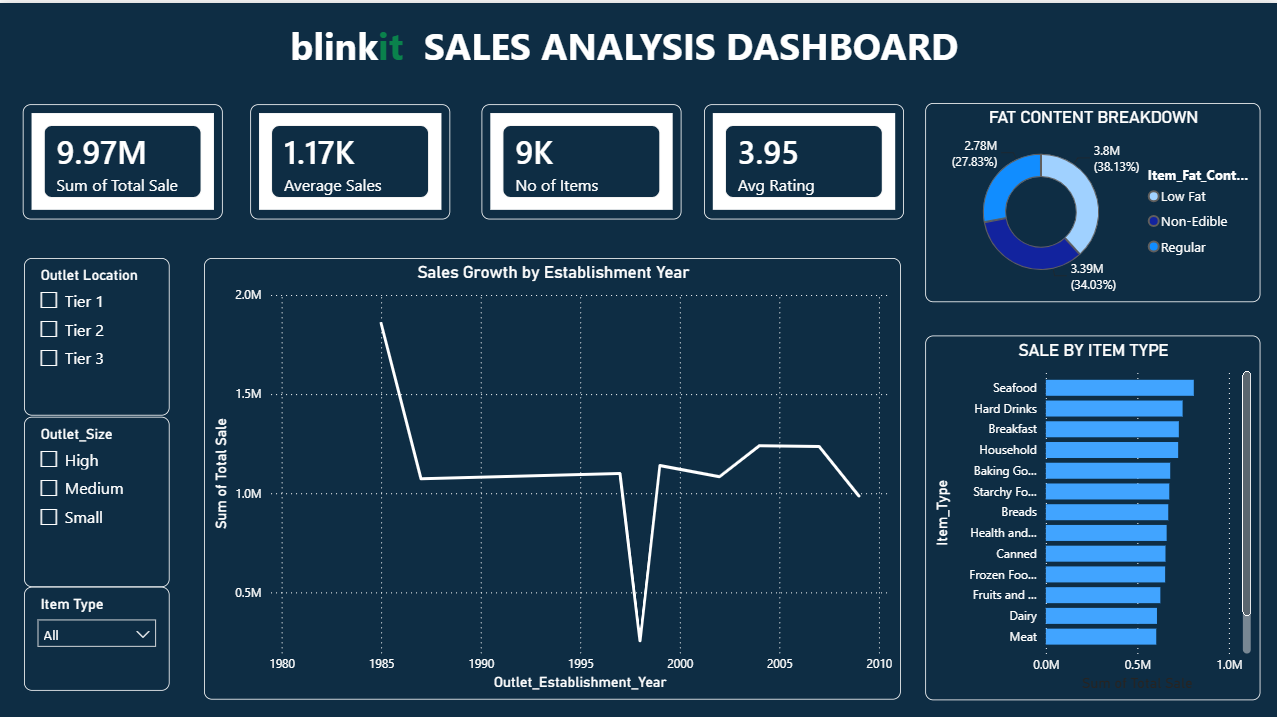

The dashboard page shown, as its layout file describes it:
{"tool":"powerbi","page":{"name":"Page 1","canvas":[1280,720],"ordinal":0},"visuals":[{"type":"textbox","box":[420,12.9,567.1,71.4],"z":0},{"type":"textbox","box":[285.7,12.9,165.7,71.4],"z":1000},{"type":"cardVisual","fields":{"Data":["Sum(Blinkit_Grocery_Sales.Total Sale)"]},"box":[23.9,100.7,200.3,115.3],"z":2000},{"type":"cardVisual","fields":{"Data":["Blinkit_Grocery_Sales.Average Sales"]},"box":[251.7,100.7,200.3,115.3],"z":3000},{"type":"cardVisual","fields":{"Data":["Blinkit_Grocery_Sales.No of Items"]},"box":[482.2,100.7,200.3,115.3],"z":4000},{"type":"cardVisual","fields":{"Data":["Blinkit_Grocery_Sales.Avg Rating"]},"box":[704.5,100.7,200.3,115.3],"z":5000},{"type":"donutChart","title":"FAT CONTENT BREAKDOWN","fields":{"Category":["Blinkit_Grocery_Sales.Item_Fat_Content"],"Y":["Sum(Blinkit_Grocery_Sales.Total Sale)"]},"box":[926.2,100.2,334.8,199],"z":6000},{"type":"clusteredBarChart","title":"SALE BY ITEM TYPE","fields":{"Y":["Sum(Blinkit_Grocery_Sales.Total Sale)"],"Category":["Blinkit_Grocery_Sales.Item_Type"]},"box":[926.2,332.1,334.8,365],"z":7000},{"type":"slicer","fields":{"Values":["Blinkit_Grocery_Sales.Outlet_Location_Type"]},"box":[24.7,255.2,145.5,157.8],"z":8000},{"type":"slicer","fields":{"Values":["Blinkit_Grocery_Sales.Outlet_Size"]},"box":[25,413.6,145.5,170.2],"z":9000},{"type":"slicer","fields":{"Values":["Blinkit_Grocery_Sales.Item_Type"]},"box":[25,583.7,145.5,104.3],"z":10000},{"type":"lineChart","title":"Sales Growth by Establishment Year","fields":{"Category":["Blinkit_Grocery_Sales.Outlet_Establishment_Year"],"Y":["Sum(Blinkit_Grocery_Sales.Total Sale)"]},"box":[204.5,255.2,697.1,441.9],"z":11000}]}

Visuals, with their boxes in screenshot pixels (x1, y1, x2, y2), scaled from the page's 1280x720 canvas onto the 1277x717 screenshot:
textbox: x1=419 y1=13 x2=985 y2=84
textbox: x1=285 y1=13 x2=450 y2=84
cardVisual - Sum(Blinkit_Grocery_Sales.Total Sale): x1=24 y1=100 x2=224 y2=215
cardVisual - Blinkit_Grocery_Sales.Average Sales: x1=251 y1=100 x2=451 y2=215
cardVisual - Blinkit_Grocery_Sales.No of Items: x1=481 y1=100 x2=681 y2=215
cardVisual - Blinkit_Grocery_Sales.Avg Rating: x1=703 y1=100 x2=903 y2=215
"FAT CONTENT BREAKDOWN" donutChart: x1=924 y1=100 x2=1258 y2=298
"SALE BY ITEM TYPE" clusteredBarChart: x1=924 y1=331 x2=1258 y2=694
slicer - Blinkit_Grocery_Sales.Outlet_Location_Type: x1=25 y1=254 x2=170 y2=411
slicer - Blinkit_Grocery_Sales.Outlet_Size: x1=25 y1=412 x2=170 y2=581
slicer - Blinkit_Grocery_Sales.Item_Type: x1=25 y1=581 x2=170 y2=685
"Sales Growth by Establishment Year" lineChart: x1=204 y1=254 x2=899 y2=694
